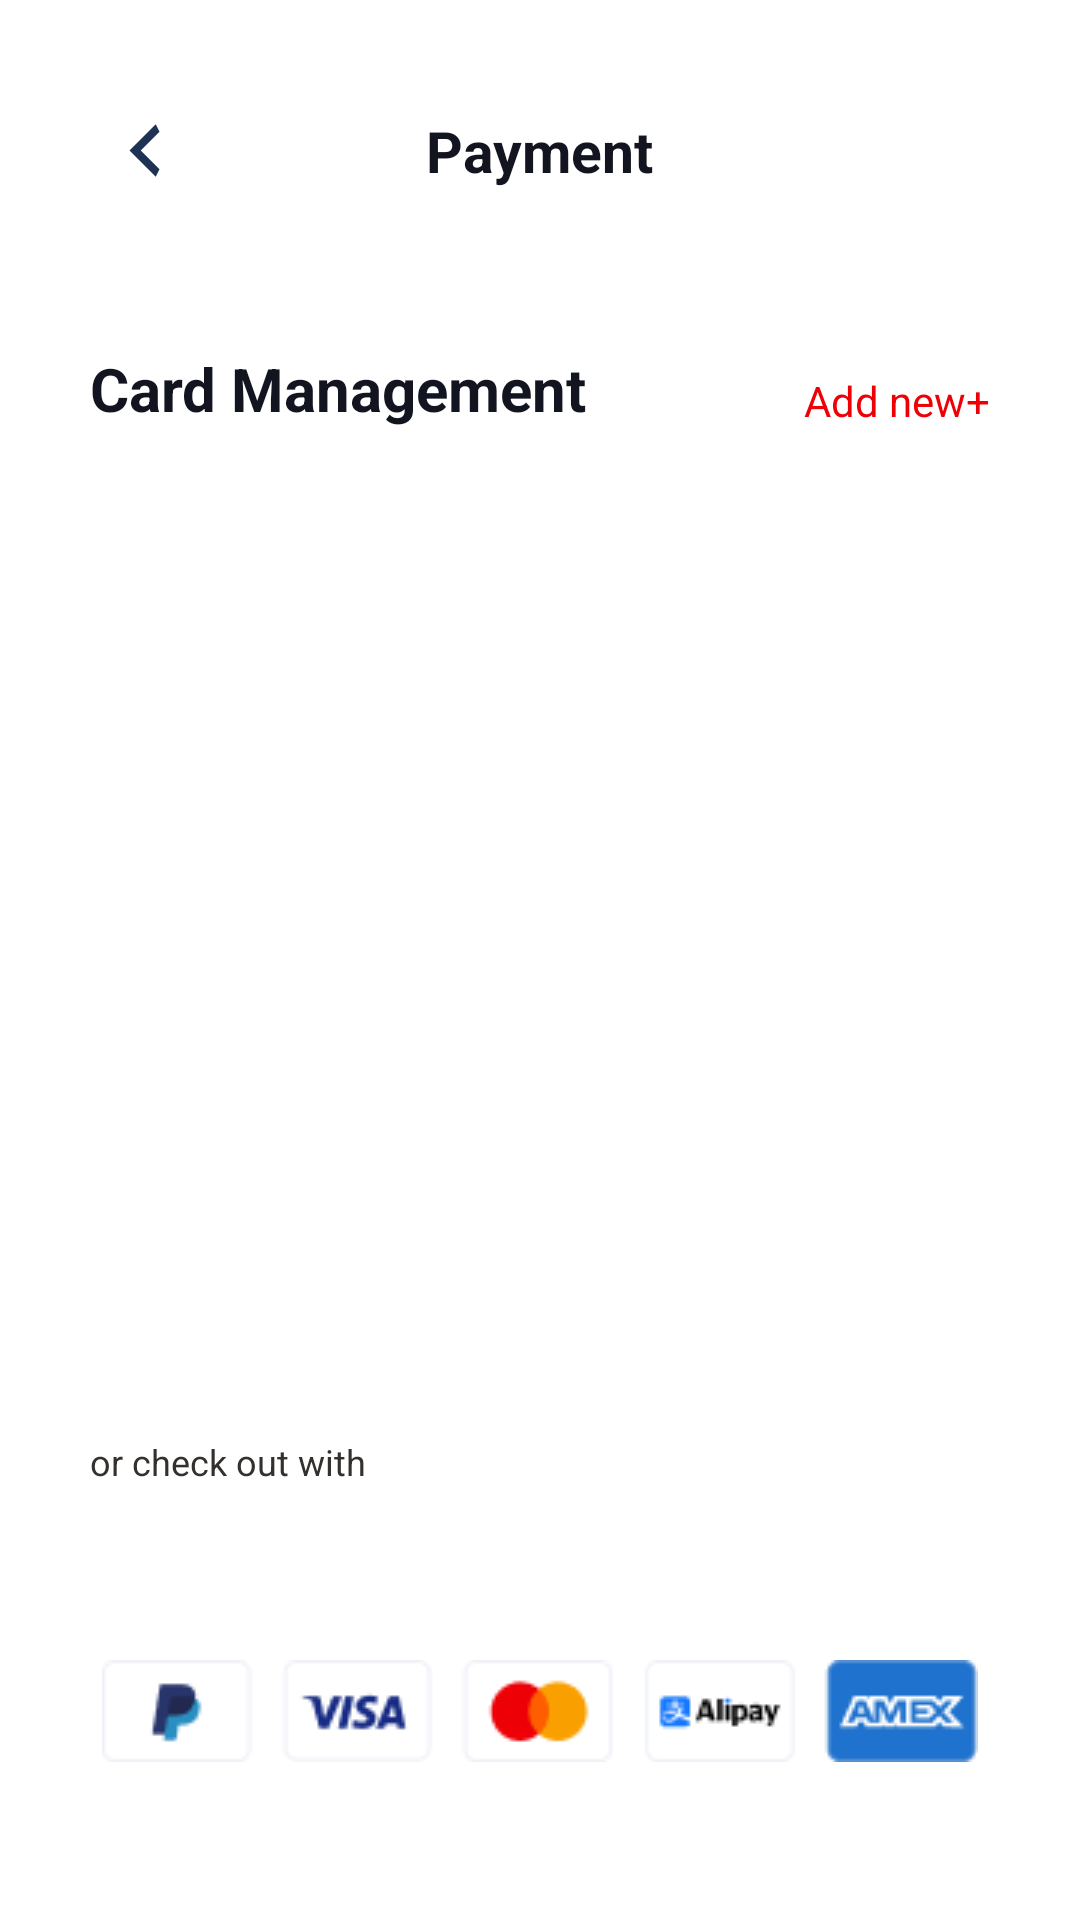

Icon bounding boxes for this 1080x1920 phone screenshot, format detection(x1, y1, x2, y2):
arrowleftalt: detection(129, 124, 160, 177)
